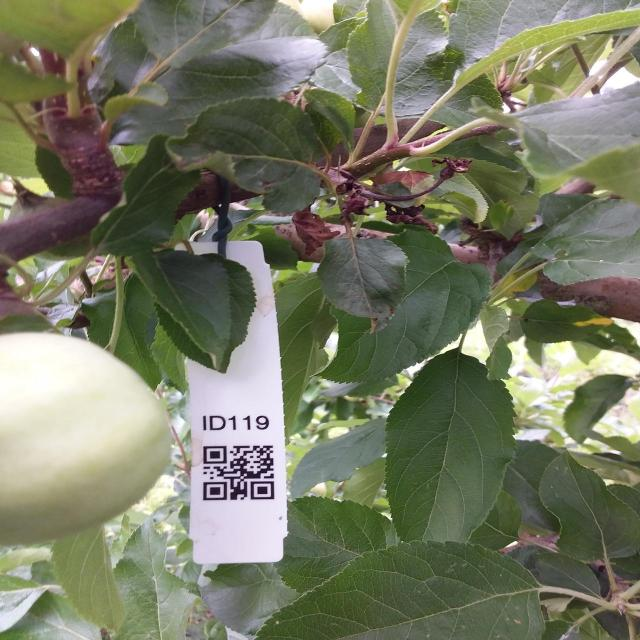-FireBlight-: (334, 169, 438, 233), (279, 196, 339, 258)
